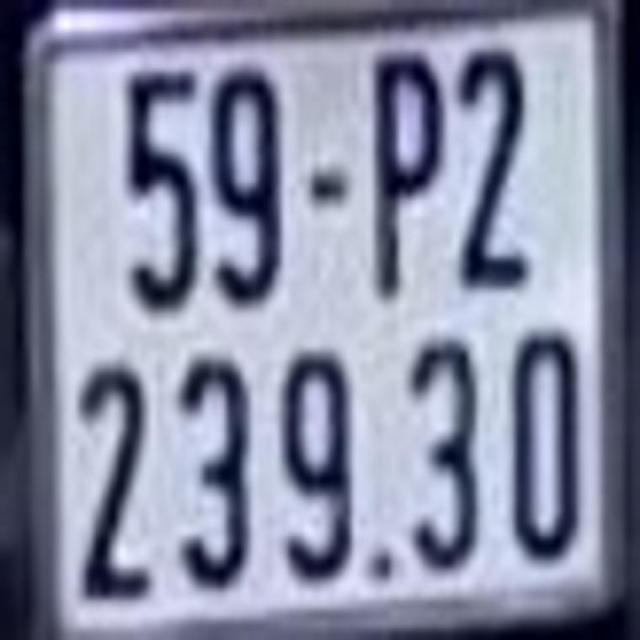0: (509, 329, 582, 562)
2: (77, 362, 154, 596), (456, 48, 530, 282)
3: (176, 355, 252, 584), (411, 340, 475, 575)
5: (122, 64, 200, 307)
9: (212, 66, 283, 309), (280, 347, 354, 575)
P: (370, 52, 442, 295)
